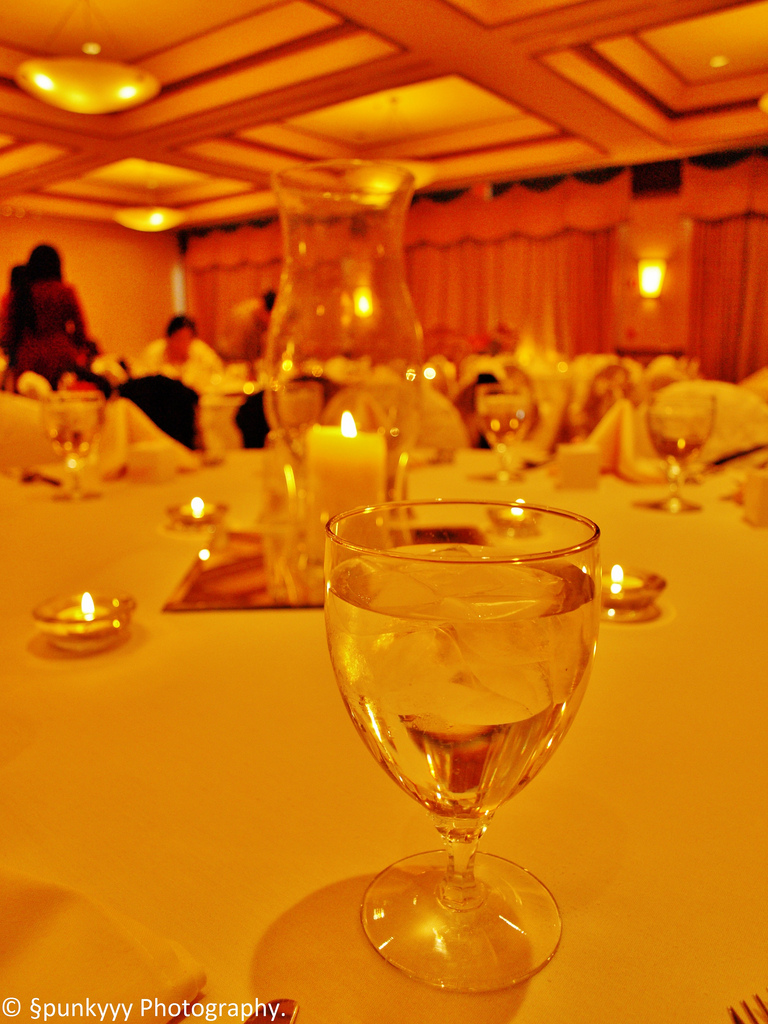glass of water: (317, 496, 615, 996), (260, 154, 440, 604), (635, 382, 720, 521)
